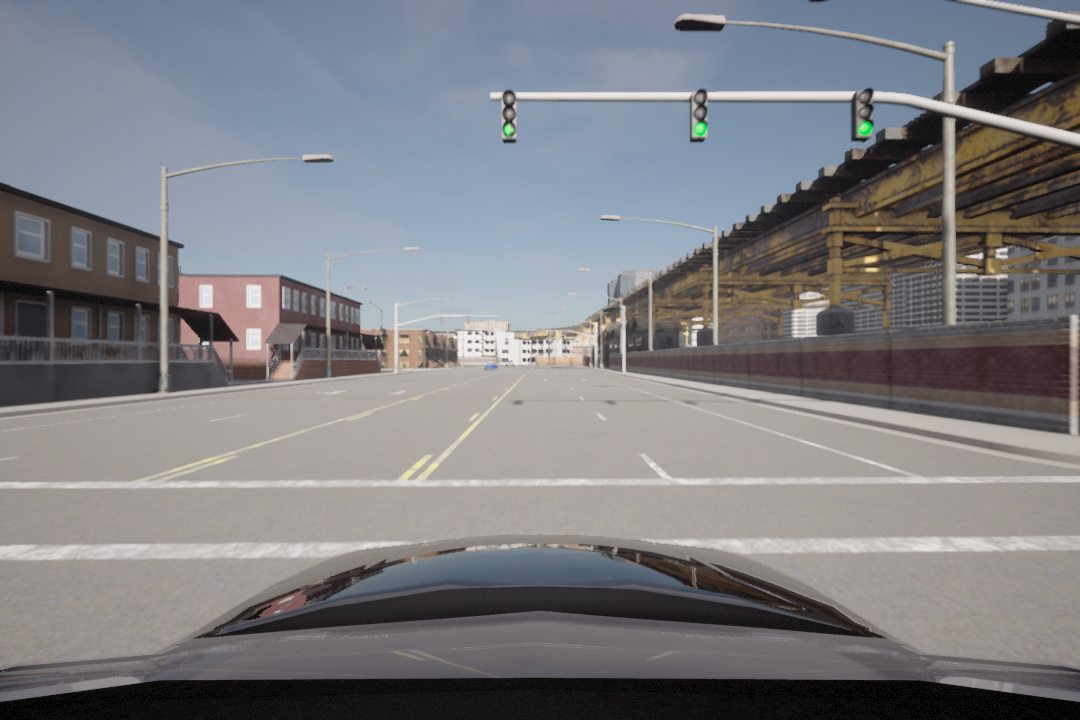TrafficLight: (851, 91, 877, 147), (497, 87, 520, 144), (689, 86, 710, 142)
